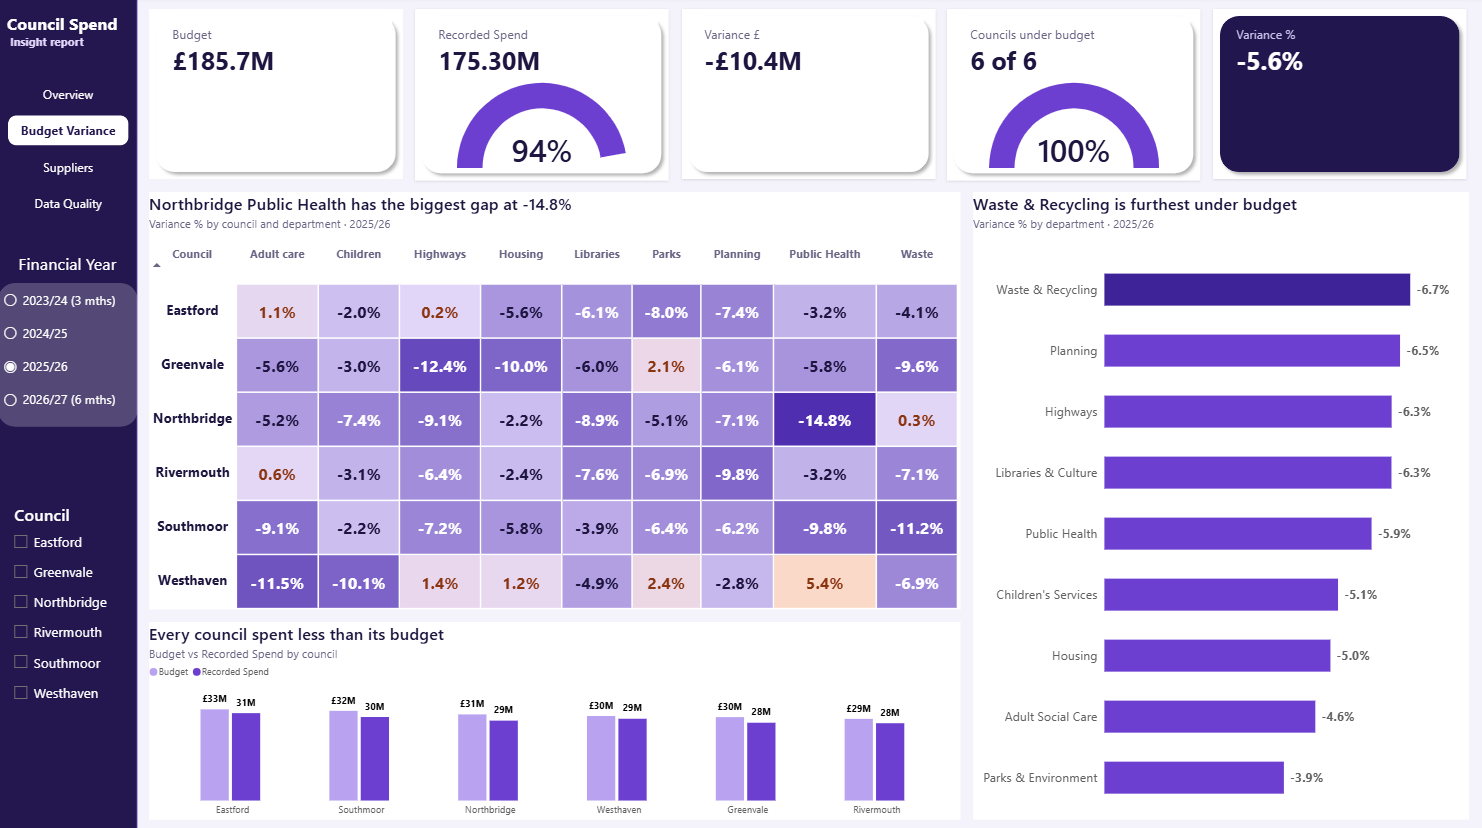

The dashboard page shown, as its layout file describes it:
{"tool":"powerbi","page":{"name":"Budget Variance","canvas":[1920,1080],"ordinal":1},"visuals":[{"type":"shape","box":[0,0,180,1079.6],"z":0},{"type":"shape","box":[196,16,328,219.9],"z":0,"group":"g1"},{"type":"shape","box":[540,16,327.5,221.6],"z":0,"group":"g2"},{"type":"shape","box":[885,16,328,220],"z":0,"group":"g3"},{"type":"shape","box":[1228,16,327.5,221.6],"z":0,"group":"g4"},{"type":"shape","box":[1572,16,328,220],"z":0,"group":"g5"},{"type":"cardVisual","fields":{"Data":["Council_Spending_final.Budget"]},"box":[210,26,300,90],"z":1000,"group":"g1"},{"type":"cardVisual","fields":{"Data":["Council_Spending_final.Recorded Spend"]},"box":[554,26,300,90],"z":1000,"group":"g2"},{"type":"cardVisual","fields":{"Data":["Council_Spending_final.Variance £"]},"box":[898,26,300,90],"z":1000,"group":"g3"},{"type":"cardVisual","fields":{"Data":["Council_Spending_final.Councils under budget"]},"box":[1242,26,300,90],"z":1000,"group":"g4"},{"type":"cardVisual","fields":{"Data":["Council_Spending_final.Variance %"]},"box":[1586,26,300,90],"z":1000,"group":"g5"},{"type":"shape","box":[0,370.5,180.7,186.2],"z":1000},{"type":"gauge","fields":{"Y":["Council_Spending_final.Budget Used %"]},"box":[594,106,220,120],"z":2000,"group":"g2"},{"type":"gauge","fields":{"Y":["Council_Spending_final.Councils Under Budget %"]},"box":[1282,106,220,120],"z":2000,"group":"g4"},{"type":"slicer","fields":{"Values":["Council_Spending_final.Financial Year"]},"box":[0,369.9,180.7,186.2],"z":2000},{"type":"textbox","box":[0,330.1,179.7,39.7],"z":3000},{"type":"group","id":"g1","title":"Tile Paid","box":[196,16,328,219.9],"z":4000},{"type":"group","id":"g2","title":"Tile Recorded","box":[540,16,327.5,221.6],"z":5000},{"type":"group","id":"g3","title":"Tile Budget","box":[885,16,328,220],"z":6000},{"type":"group","id":"g4","title":"Tile Pending","box":[1228,16,327.5,221.6],"z":7000},{"type":"group","id":"g5","title":"Tile Variance","box":[1572,16,328,220],"z":8000},{"type":"slicer","fields":{"Values":["Council_Spending_final.Council Short"]},"box":[12.8,655.2,155.1,277.4],"z":9000},{"type":"textbox","box":[12,20,156,60],"z":10000},{"type":"pivotTable","fields":{"Columns":["Council_Spending_final.Dept Short"],"Rows":["Council_Spending_final.Council Short"],"Values":["Council_Spending_final.Variance %"]},"box":[196,252,1050,540],"z":11000},{"type":"clusteredBarChart","fields":{"Category":["Council_Spending_final.department"],"Y":["Council_Spending_final.Under Budget Bar"]},"box":[1262,252,642,812],"z":12000},{"type":"clusteredColumnChart","title":"Every council spent less than its budget","fields":{"Category":["Council_Spending_final.Council Short"],"Y":["Council_Spending_final.Budget","Council_Spending_final.Recorded Spend"]},"box":[196,808,1050,256],"z":13000},{"type":"pageNavigator","box":[12.8,105.9,156,180],"z":14000}]}

Visuals, with their boxes in screenshot pixels (x1, y1, x2, y2), scaled from the page's 1920x1080 canvas onto the 1482x828 screenshot:
shape: x1=0 y1=0 x2=139 y2=827
shape: x1=151 y1=12 x2=404 y2=181
shape: x1=417 y1=12 x2=670 y2=182
shape: x1=683 y1=12 x2=936 y2=181
shape: x1=948 y1=12 x2=1201 y2=182
shape: x1=1213 y1=12 x2=1467 y2=181
cardVisual - Council_Spending_final.Budget: x1=162 y1=20 x2=394 y2=89
cardVisual - Council_Spending_final.Recorded Spend: x1=428 y1=20 x2=659 y2=89
cardVisual - Council_Spending_final.Variance £: x1=693 y1=20 x2=925 y2=89
cardVisual - Council_Spending_final.Councils under budget: x1=959 y1=20 x2=1190 y2=89
cardVisual - Council_Spending_final.Variance %: x1=1224 y1=20 x2=1456 y2=89
shape: x1=0 y1=284 x2=139 y2=427
gauge - Council_Spending_final.Budget Used %: x1=458 y1=81 x2=628 y2=173
gauge - Council_Spending_final.Councils Under Budget %: x1=990 y1=81 x2=1159 y2=173
slicer - Council_Spending_final.Financial Year: x1=0 y1=284 x2=139 y2=426
textbox: x1=0 y1=253 x2=139 y2=284
"Tile Paid" group: x1=151 y1=12 x2=404 y2=181
"Tile Recorded" group: x1=417 y1=12 x2=670 y2=182
"Tile Budget" group: x1=683 y1=12 x2=936 y2=181
"Tile Pending" group: x1=948 y1=12 x2=1201 y2=182
"Tile Variance" group: x1=1213 y1=12 x2=1467 y2=181
slicer - Council_Spending_final.Council Short: x1=10 y1=502 x2=130 y2=715
textbox: x1=9 y1=15 x2=130 y2=61
pivotTable - Council_Spending_final.Dept Short x Council_Spending_final.Council Short: x1=151 y1=193 x2=962 y2=607
clusteredBarChart - Council_Spending_final.department x Council_Spending_final.Under Budget Bar: x1=974 y1=193 x2=1470 y2=816
"Every council spent less than its budget" clusteredColumnChart: x1=151 y1=619 x2=962 y2=816
pageNavigator: x1=10 y1=81 x2=130 y2=219
